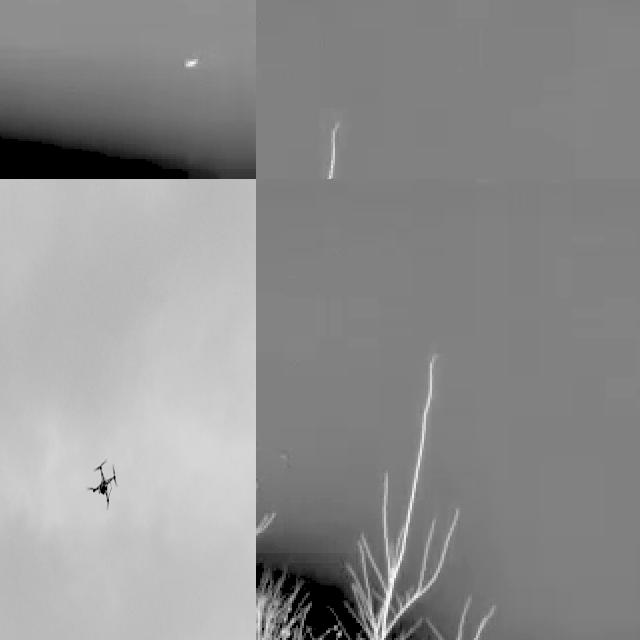1: (175, 53, 207, 80)
drone: (88, 458, 119, 511)
